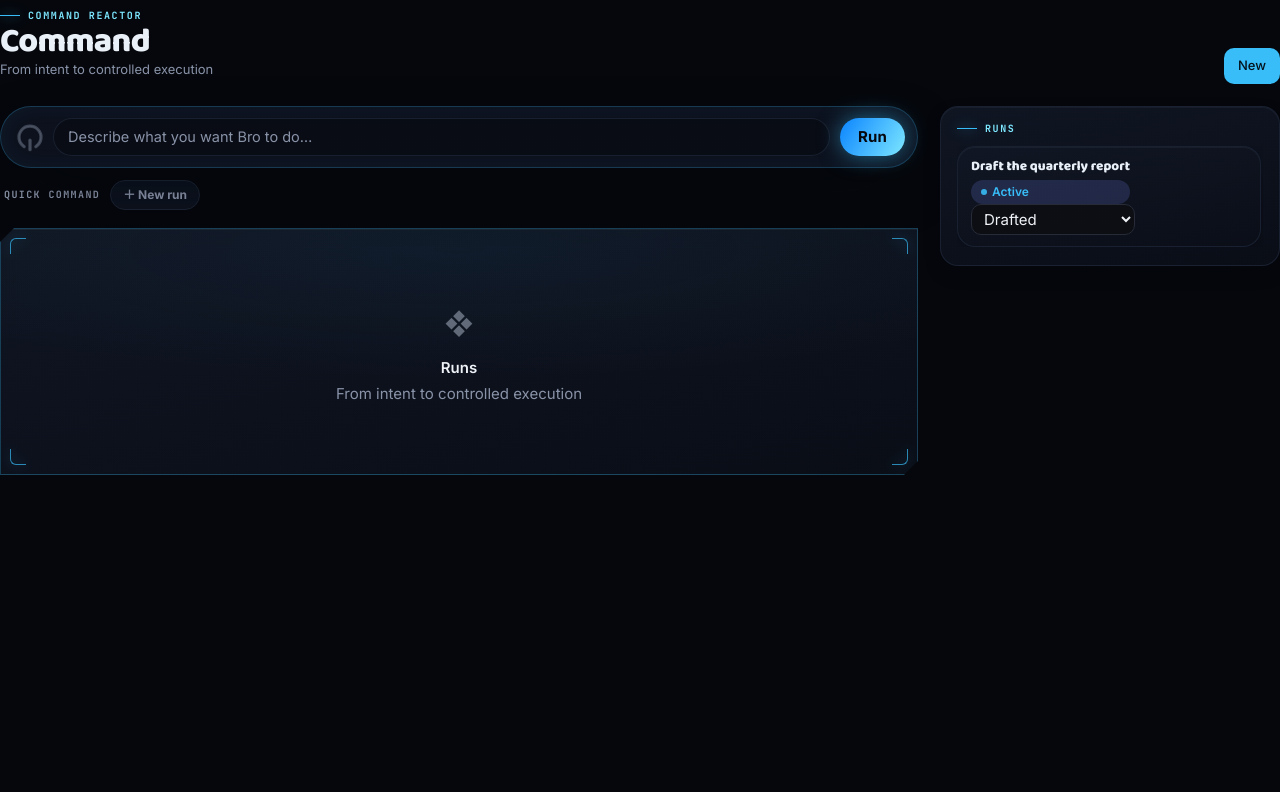
it: Command — what the backend sends down the channel › an approval-gated step halts and routes to Approvals, and is not an error
The width and height of the screenshot is (1280, 792).
What coordinates should you click on to do the following:
click the button "Draft the quarterly report Active"
I would click on:
 (1051, 181)
Its box is left=971, top=158, right=1130, bottom=204.
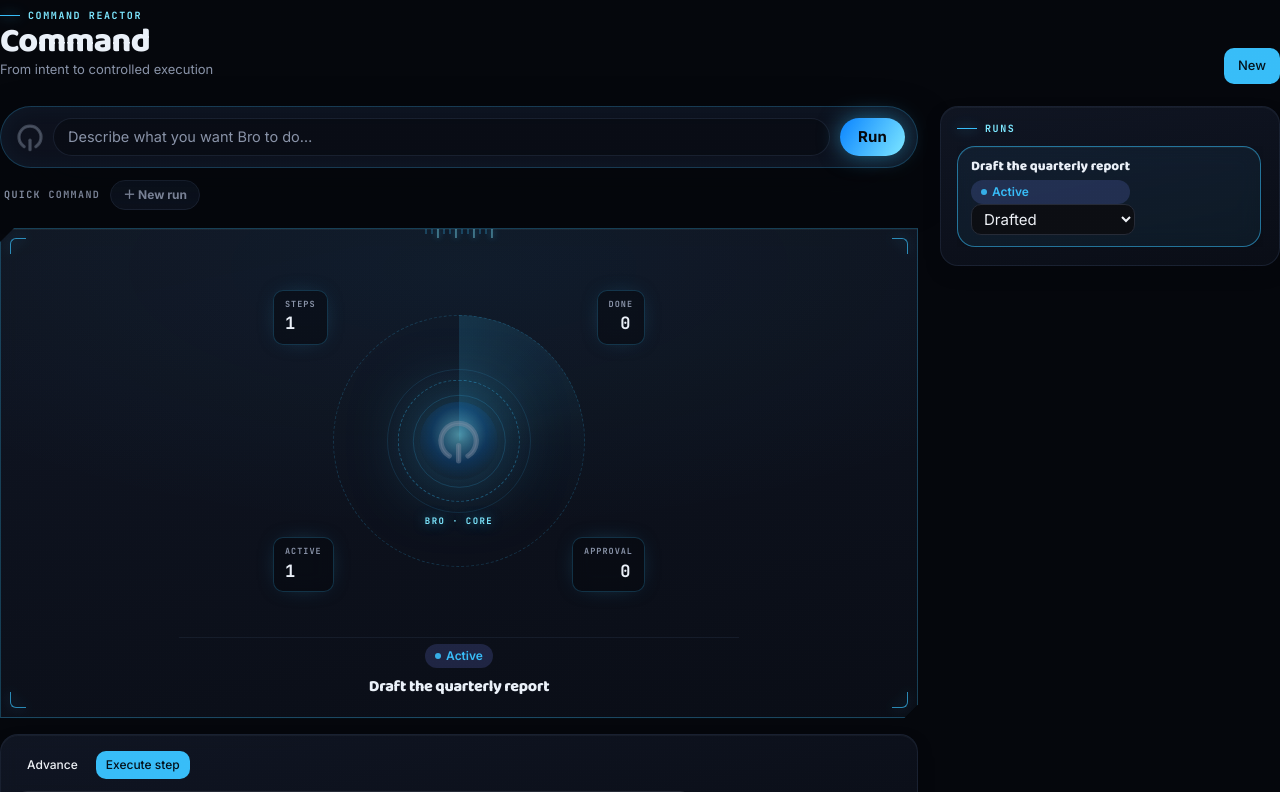
What coordinates should you click on to do the following:
click the button "Execute step"
I would click on:
 (143, 766)
Its box is left=96, top=752, right=190, bottom=780.
(page scrolled)
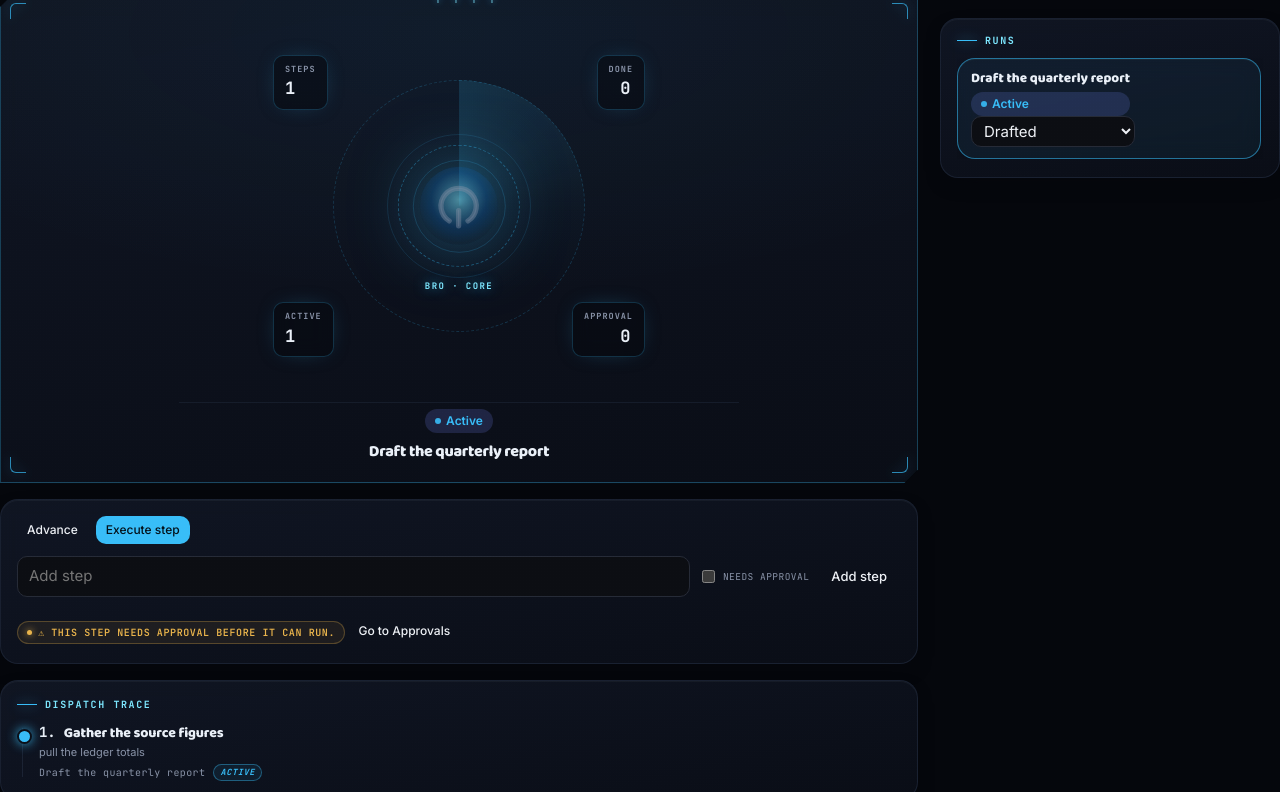
expect the button "Go to Approvals" is shown: met, box left=348, top=617, right=460, bottom=645
